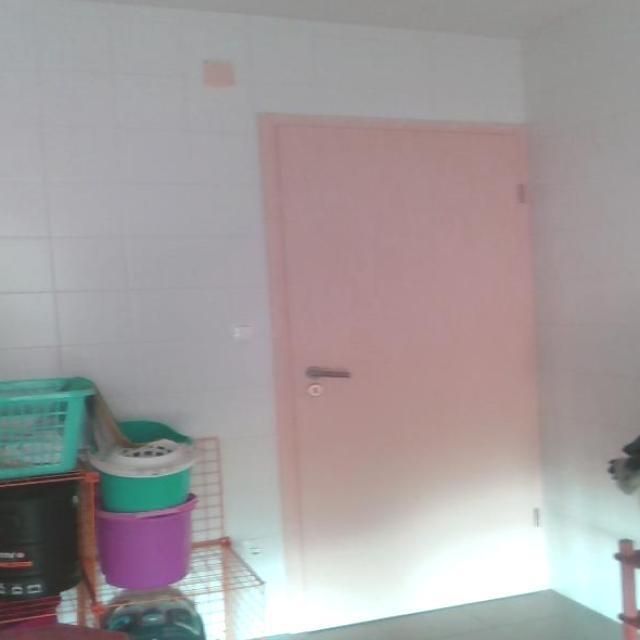door: (258, 111, 546, 627)
